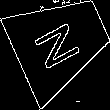N_NE: (32, 13, 89, 72)
